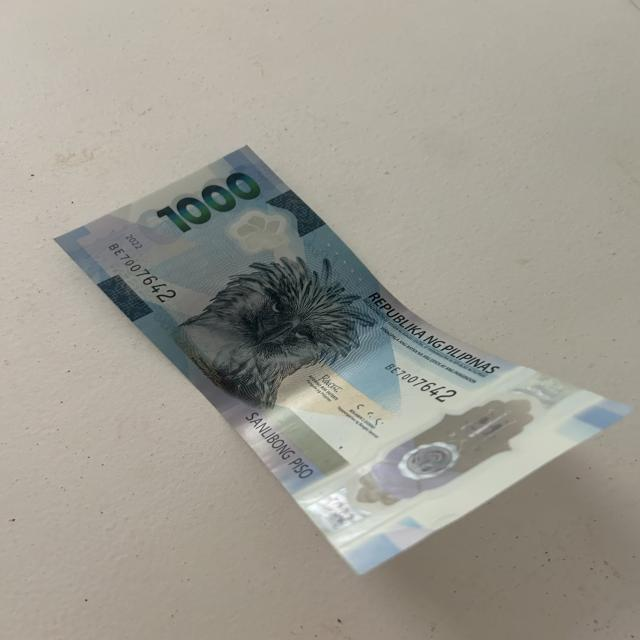clear_window: (298, 360, 602, 550)
eagle: (196, 251, 377, 398)
sampaguita: (228, 204, 296, 265)
security_thread: (225, 312, 426, 434)
serial_number: (102, 236, 178, 308), (374, 356, 456, 406)
value: (156, 169, 268, 232)
